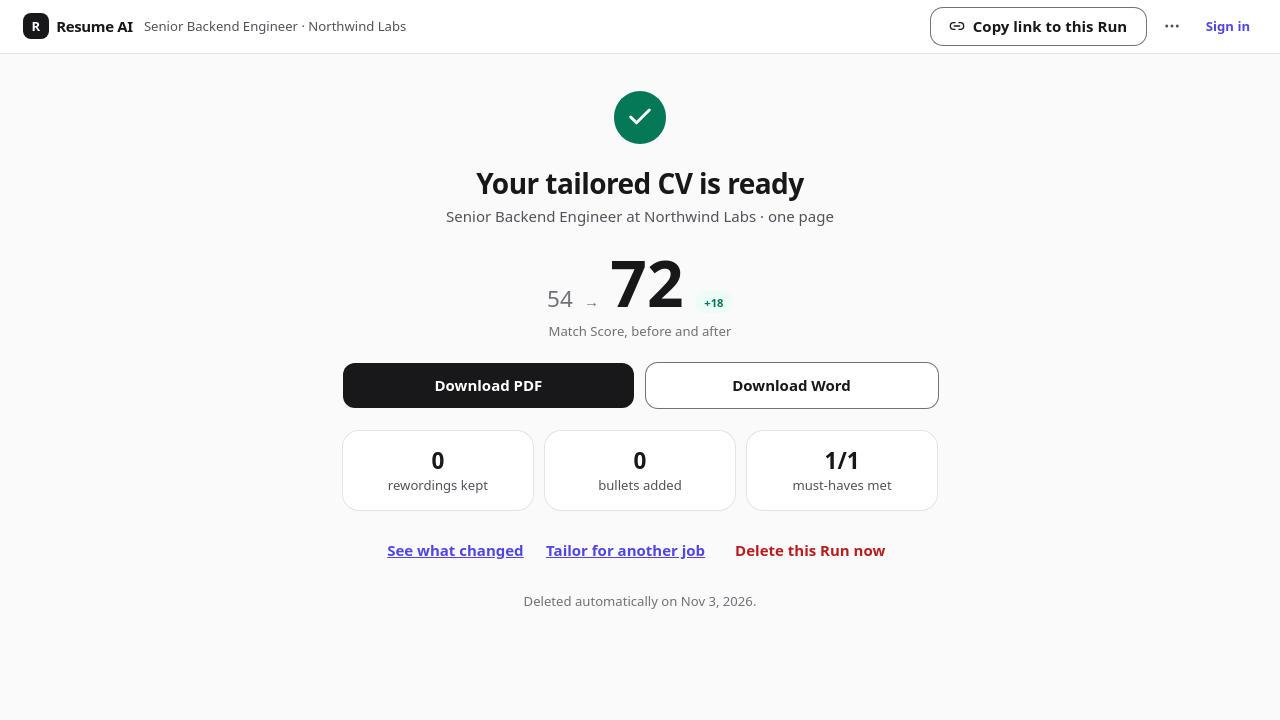
Test case: Run actions in the header › a failed delete keeps the dialog open with a message
Step 1. Click the button named "Run options" → click(1172, 26), box [1153, 8, 1191, 45]
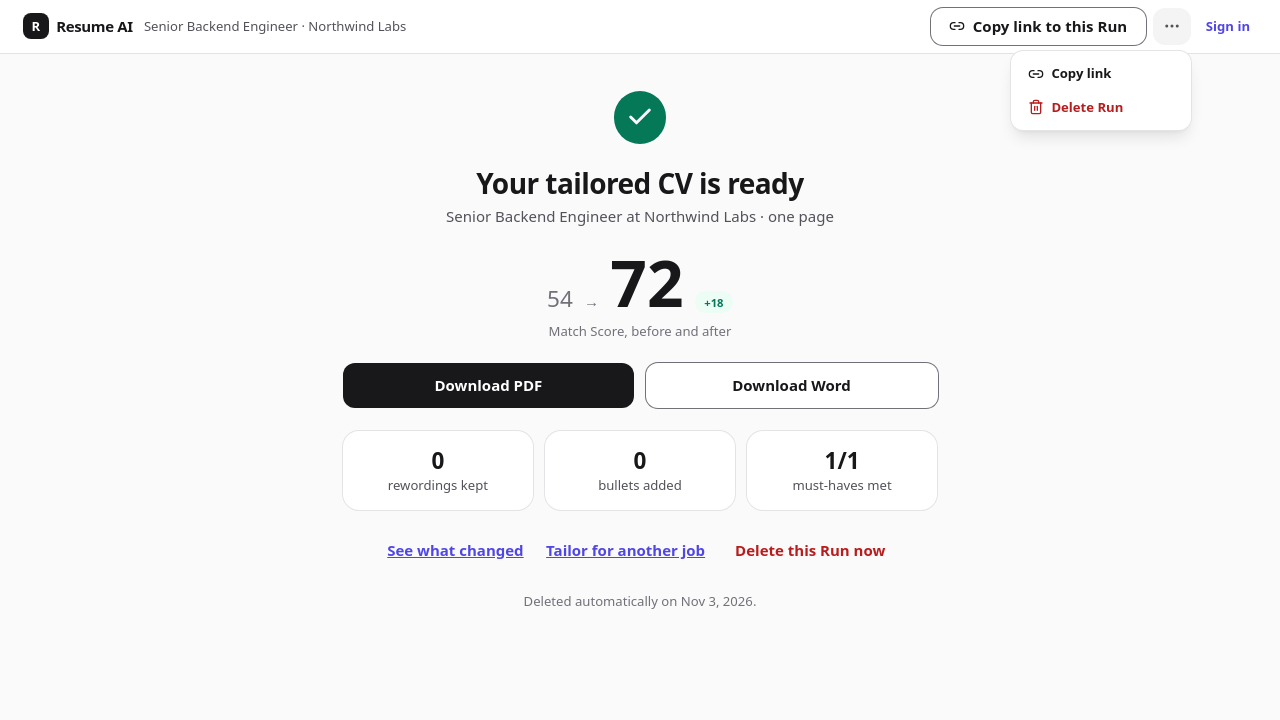
Step 2. Click the menu item "Delete Run" → click(1076, 107), box [1028, 98, 1123, 116]
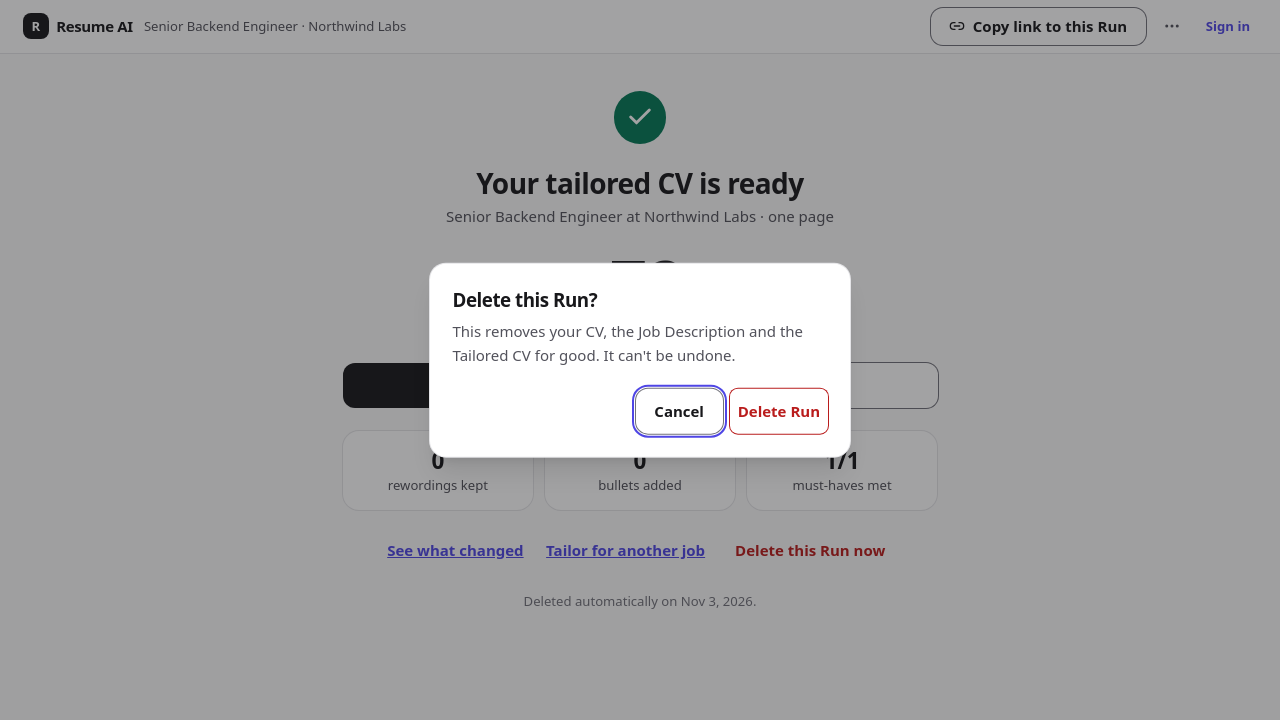
Step 3. Click the button "Delete Run" → click(779, 411), box [730, 389, 828, 434]
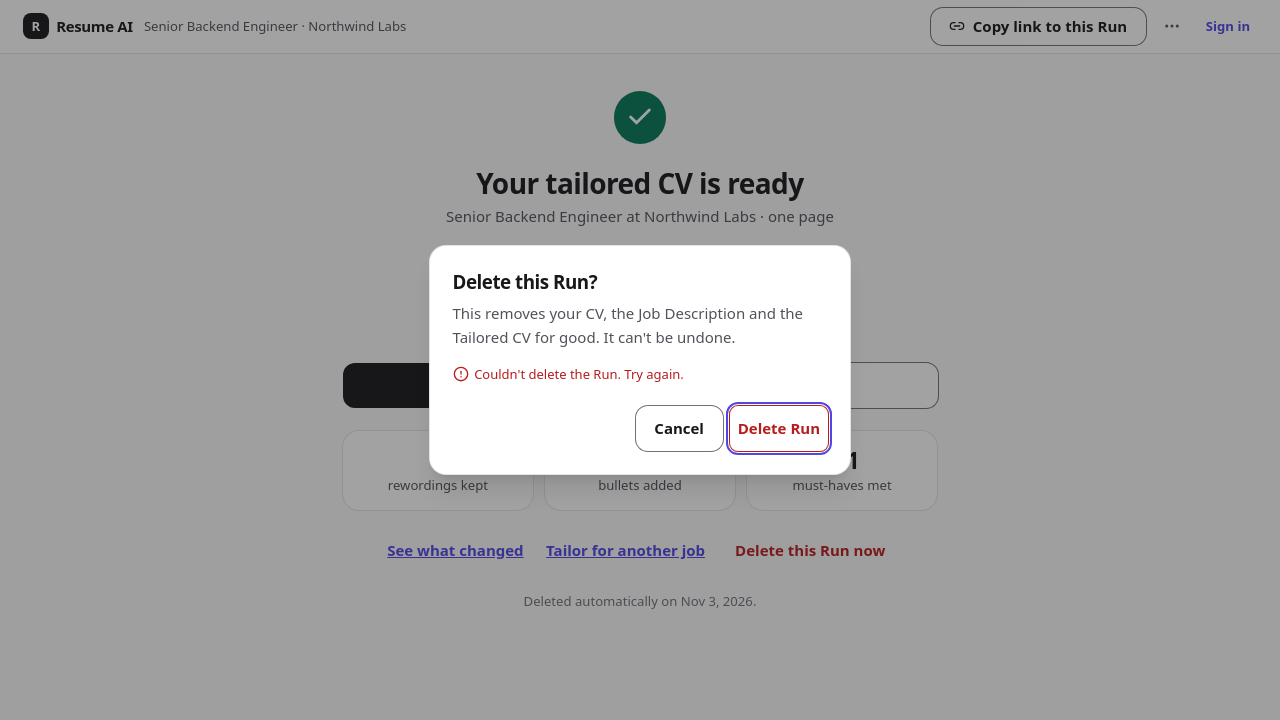
Result: the dialog is shown at [430, 246, 850, 474]
Result: the message reads "Couldn't delete the Run. Try again." at [474, 365, 684, 383]
